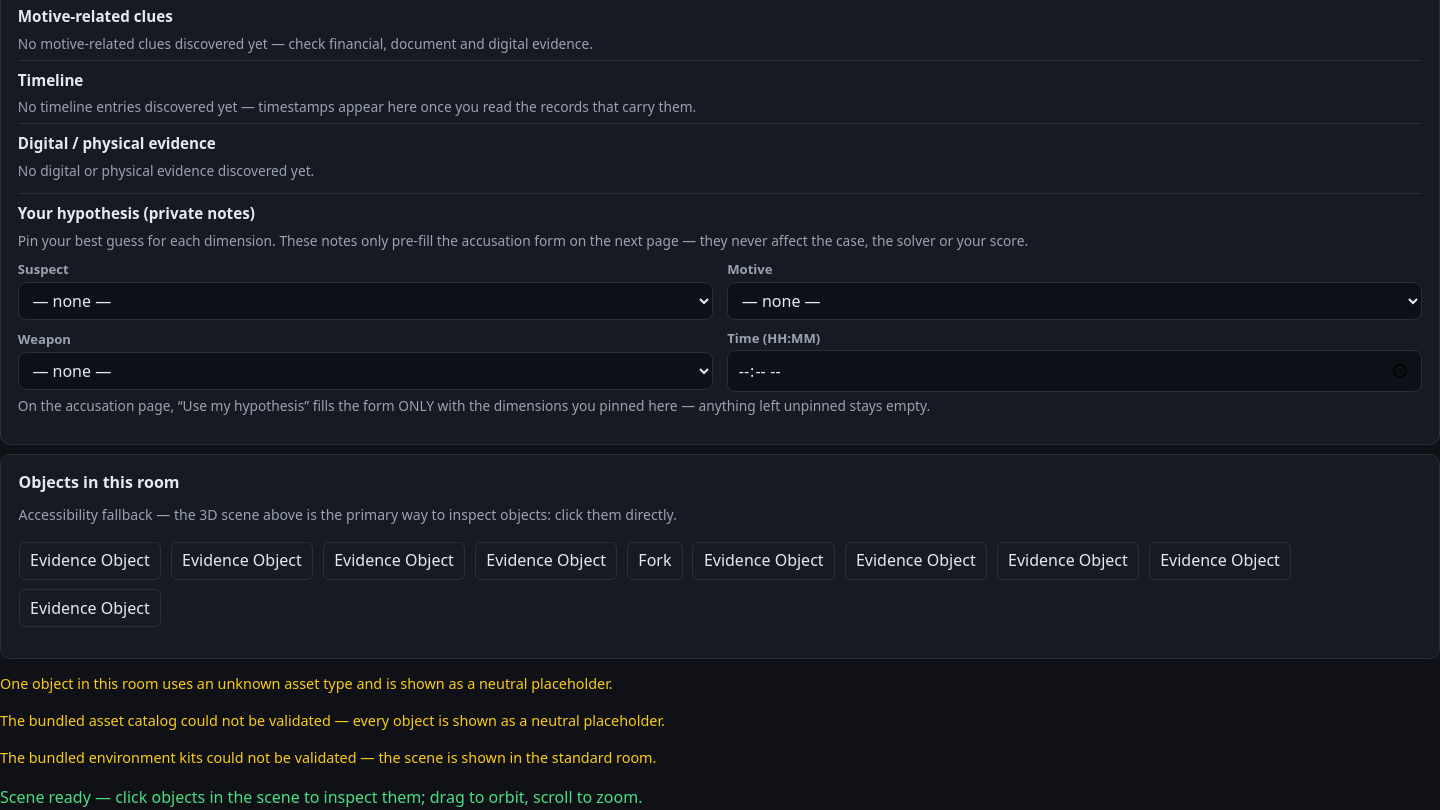
Test: Phase 19F — /scene accessibility fallback (universal inspectable buttons) › clicking the KNIFE keeps the discovery flow unchanged (panel, counter, markers)
(page scrolled)
Click the 5th button "Evidence Object". click: (764, 561)
box: [692, 542, 835, 580]
(page scrolled)
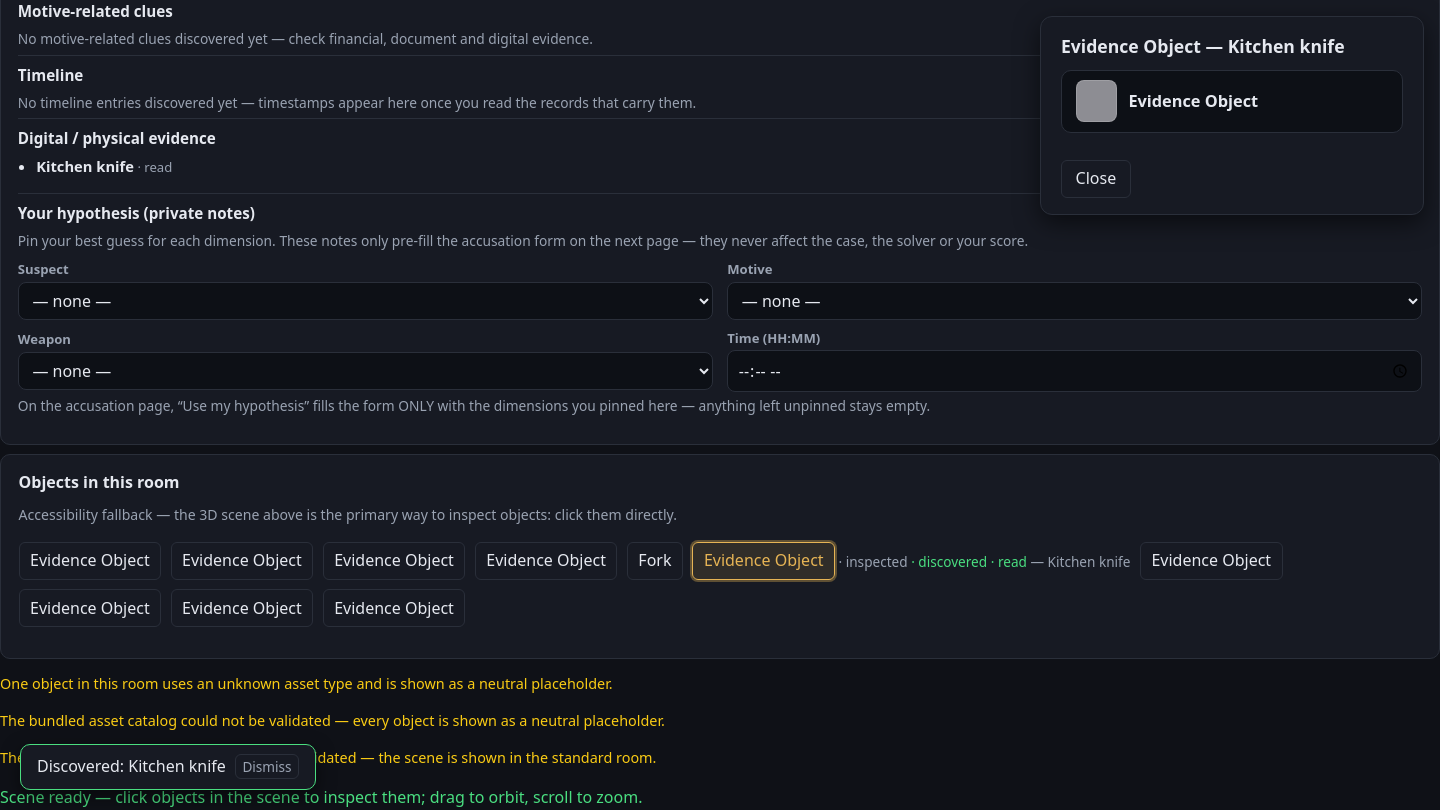
Expected: the text with test id "discovery-toast-text" reads "Discovered: Kitchen knife", [37, 756, 226, 778]
Expected: the dialog with test id "evidence-panel" is shown, [1040, 16, 1424, 215]
Expected: the text "· inspected" is shown, [835, 551, 908, 570]
